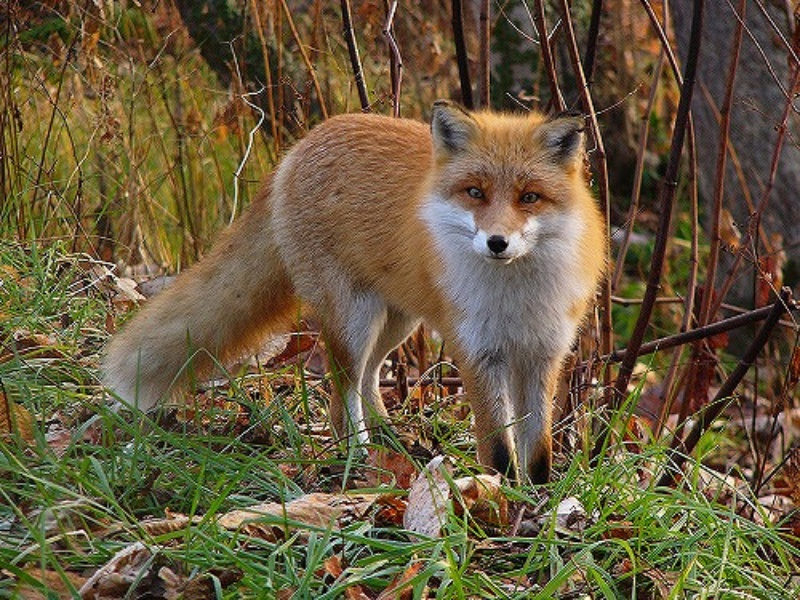fox: (98, 106, 618, 497)
